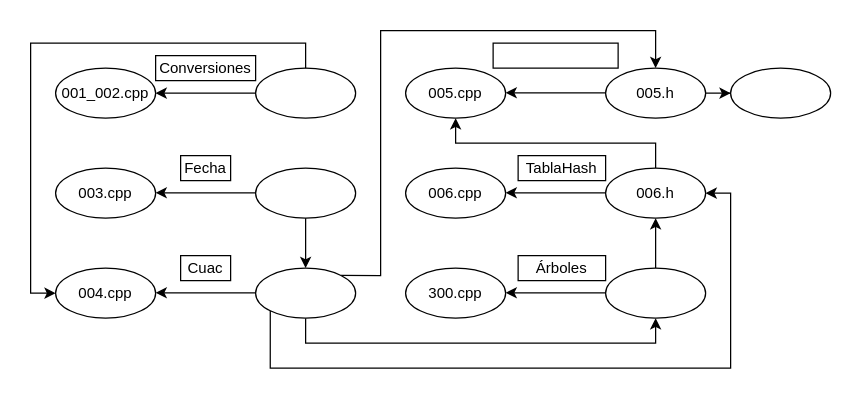
This 853x400 diagram has some shape labels left out. The shapes that lost their labels are listed below. From the top down, each one's centre as x and y in pixels, then its label:
(555,55): DiccionarioCuacs
(305,92): 001_002.h
(780,92): main.cpp
(305,192): 003.h
(305,292): 004.h
(655,292): 300.h
